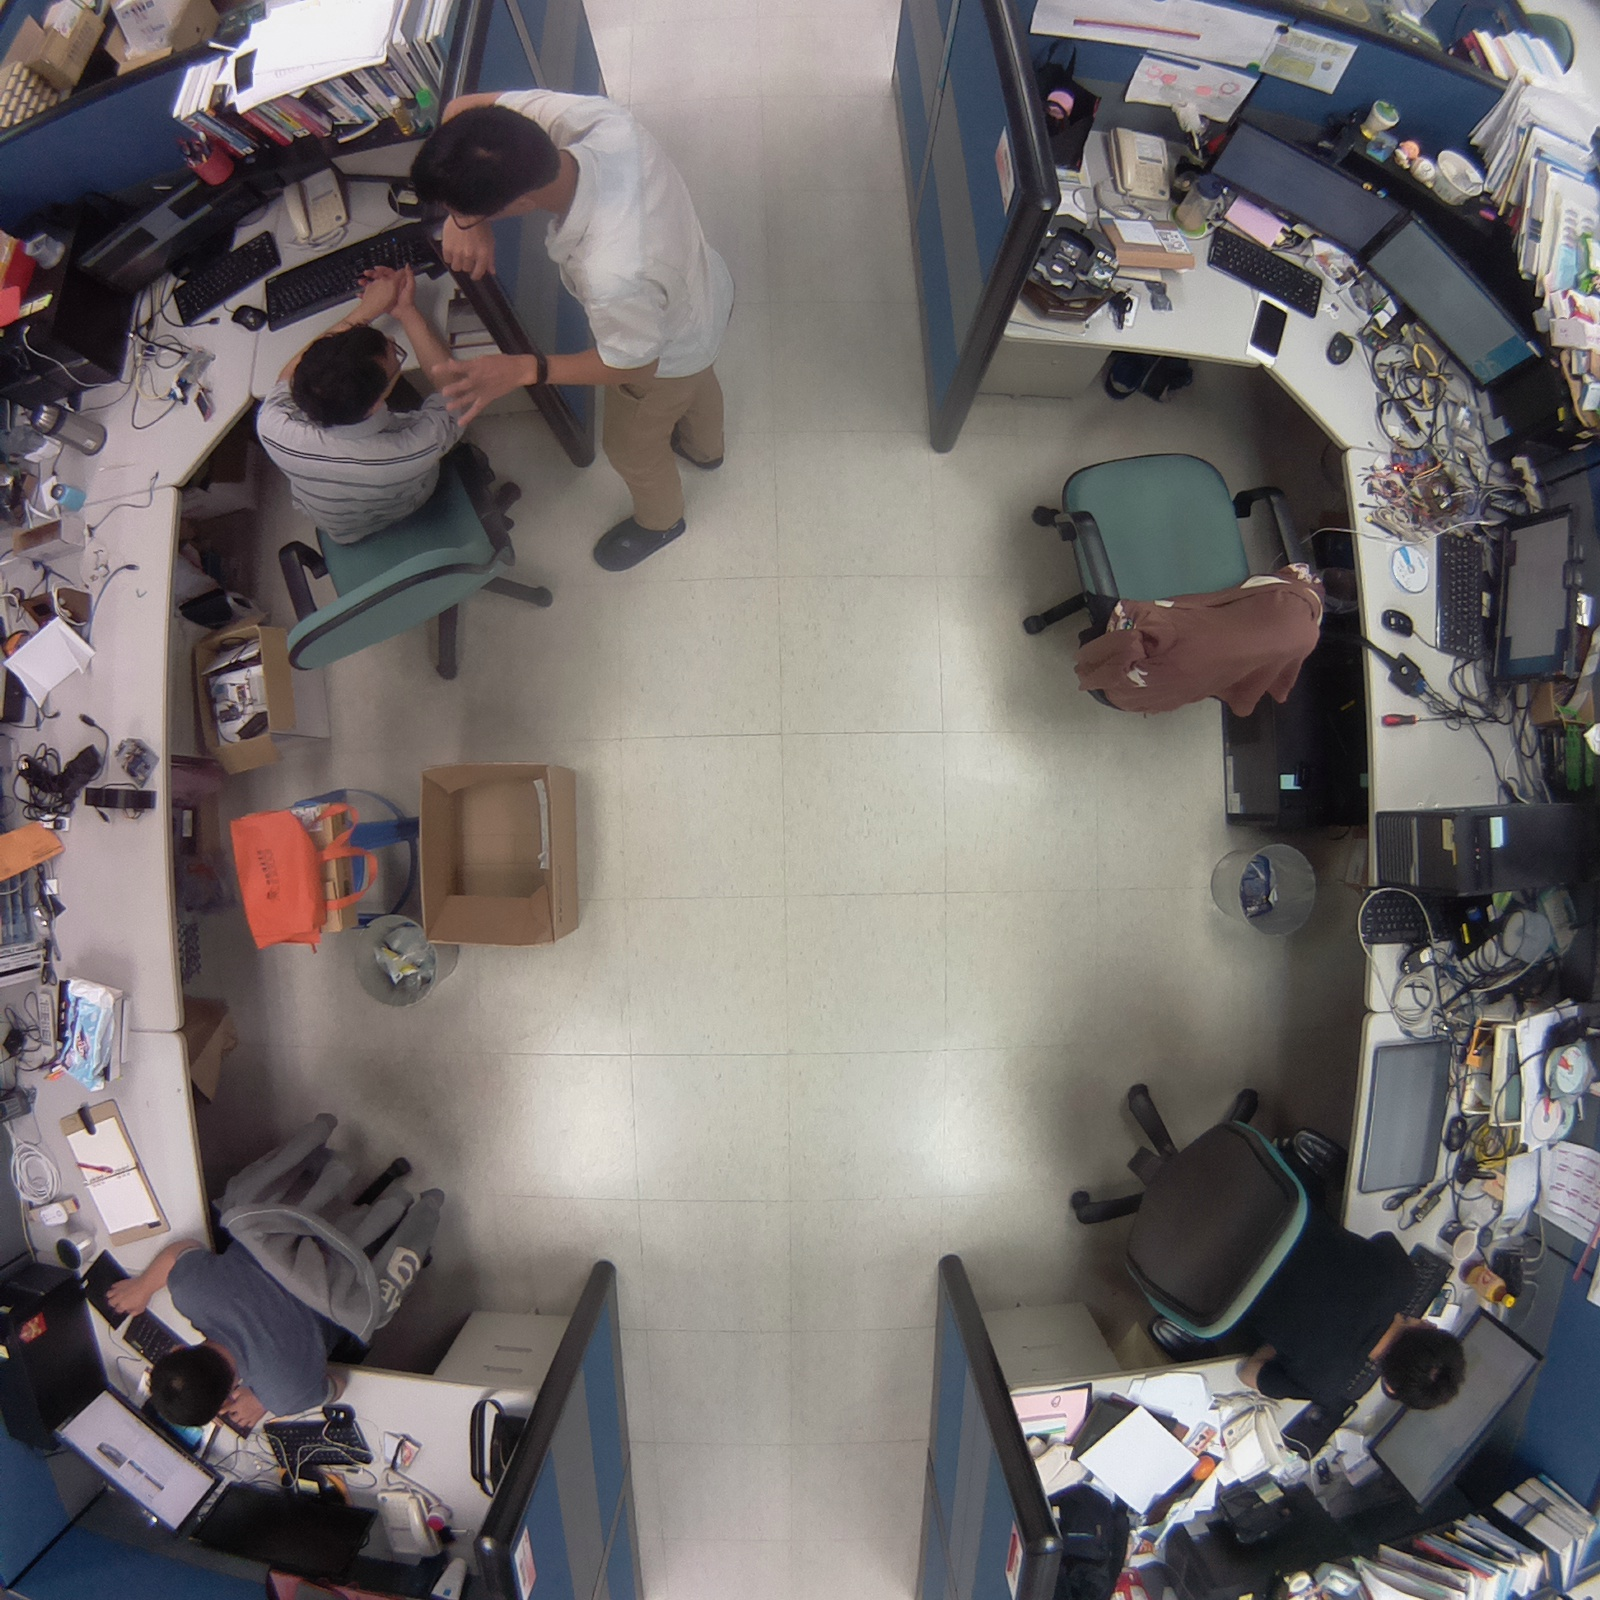head: (394, 100, 568, 225), (286, 318, 415, 435), (1372, 1318, 1478, 1412), (135, 1341, 235, 1435)
sitting: (1058, 1037, 1481, 1419), (245, 260, 573, 696), (101, 1101, 481, 1447)
standing: (391, 78, 755, 586)
